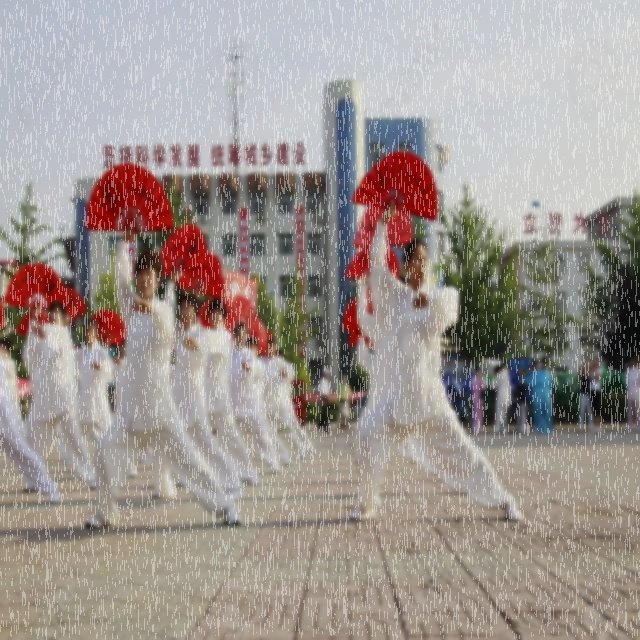pessoa: (346, 147, 524, 526), (85, 222, 242, 530), (353, 242, 483, 501), (4, 259, 100, 494), (162, 266, 246, 504), (192, 288, 260, 487), (0, 294, 62, 506), (228, 322, 282, 475), (234, 336, 294, 466), (103, 336, 154, 468), (256, 337, 308, 463), (259, 337, 307, 461), (72, 314, 114, 444), (338, 286, 375, 376), (524, 357, 554, 435), (518, 358, 542, 434), (489, 361, 512, 437), (576, 356, 594, 434), (588, 356, 604, 436), (625, 356, 640, 434), (316, 366, 332, 436), (471, 362, 485, 435), (336, 373, 352, 432), (516, 364, 528, 434), (399, 441, 417, 464), (498, 363, 506, 372)
